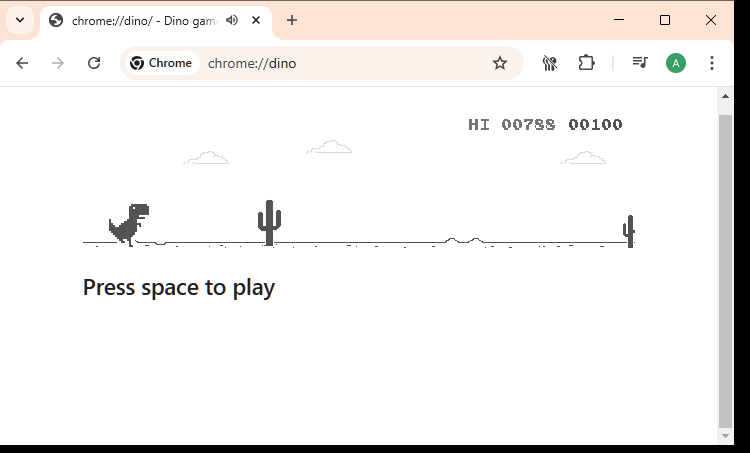cactus: (257, 199, 282, 247)
dino: (107, 202, 150, 248)
